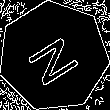N_NE: (22, 26, 86, 87)
